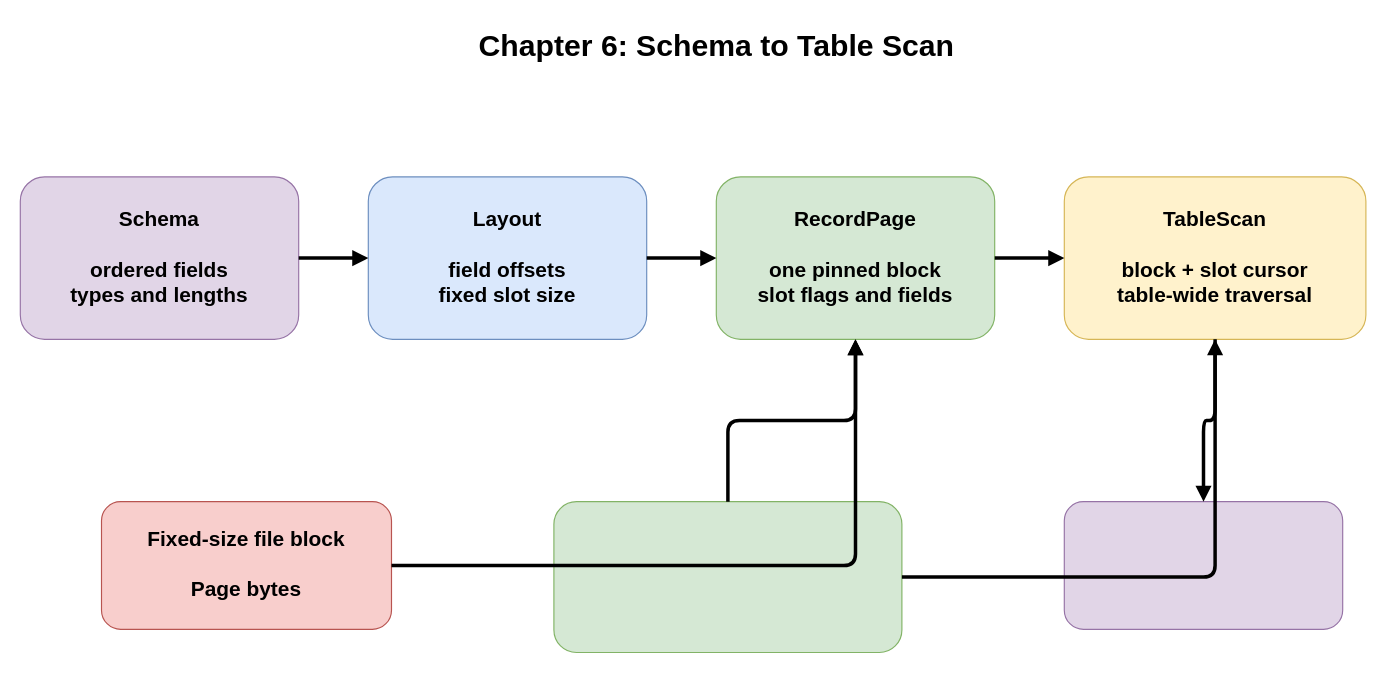
This 1386x673 diagram has some shape labels left out. Each missing label, with the centre of its shape:
"RID (block number, slot)" goes at (1203,565).
"Transaction + Buffer field reads/writes pin, unpin, locks" goes at (727,576).
